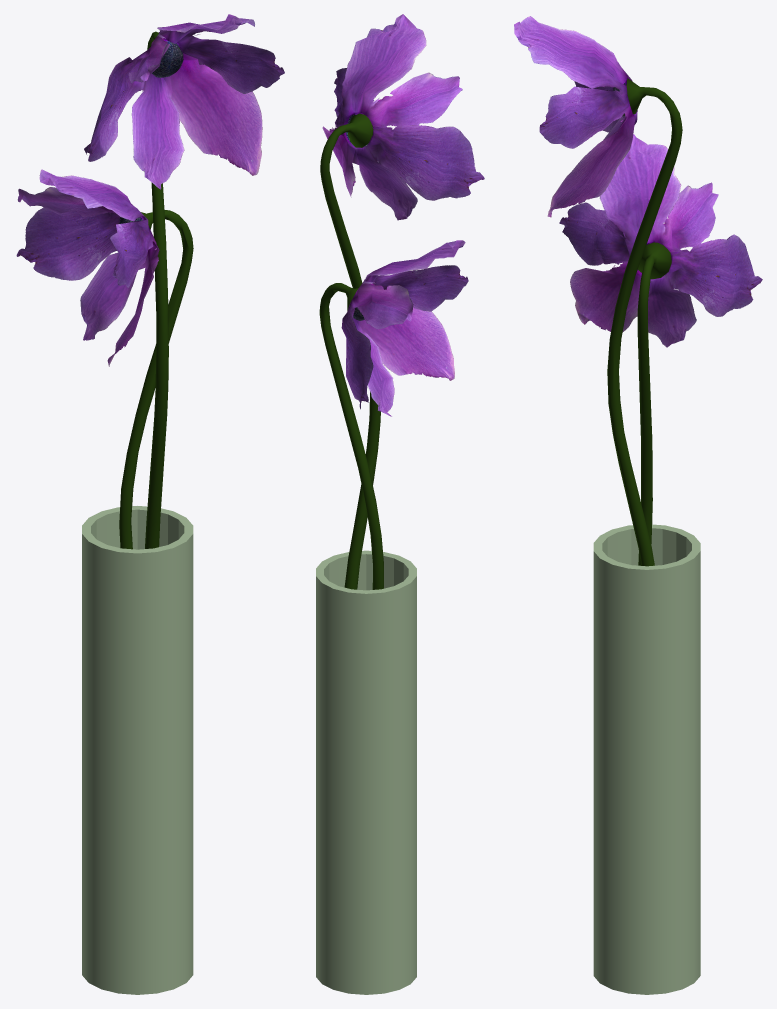
Rendered from Plant2.FBX.
3 views of the same model, side by side, from view 1: azimuth 30°, elevation 25°; view 2: azimuth 150°, elevation 25°; view 3: azimuth 270°, elevation 25° (orthographic). The views are drawn at different scales.
Visible parts, largest first — view 1: Plant 2; view 2: Plant 2; view 3: Plant 2.
Part boxes in pixels (left/top/right/bottom): Plant 2: left=16, top=14, right=284, bottom=994; Plant 2: left=316, top=14, right=484, bottom=994; Plant 2: left=514, top=16, right=762, bottom=994.
Bounding box in the file's own units: 213 × 249 × 1064.
Materials: 2 (1 with a texture image).
